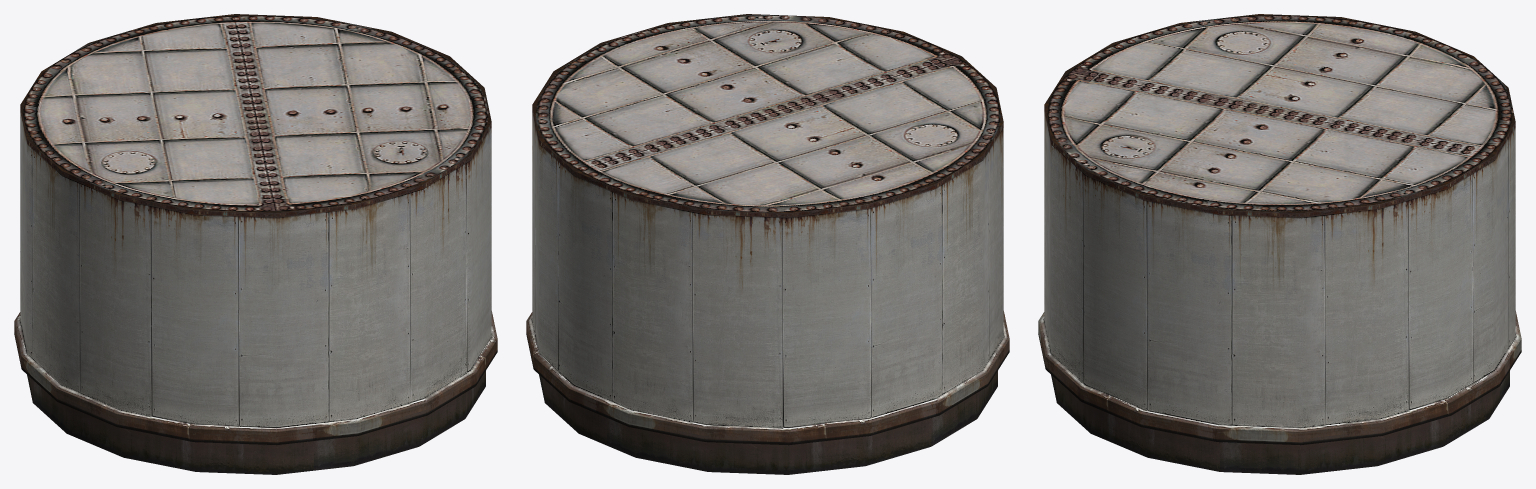
Rendered from Oil_tank_v1.FBX.
3 views of the same model, side by side, from view 1: azimuth 30°, elevation 25°; view 2: azimuth 150°, elevation 25°; view 3: azimuth 270°, elevation 25° (orthographic).
Visible parts, largest first — view 1: Oil_tank_v1; view 2: Oil_tank_v1; view 3: Oil_tank_v1.
Part boxes in pixels (<box>): Oil_tank_v1: <box>14,14,497,474</box>; Oil_tank_v1: <box>526,14,1009,474</box>; Oil_tank_v1: <box>1038,14,1521,474</box>.
Bounding box in the file's own units: 10.65 × 6.42 × 10.65.
